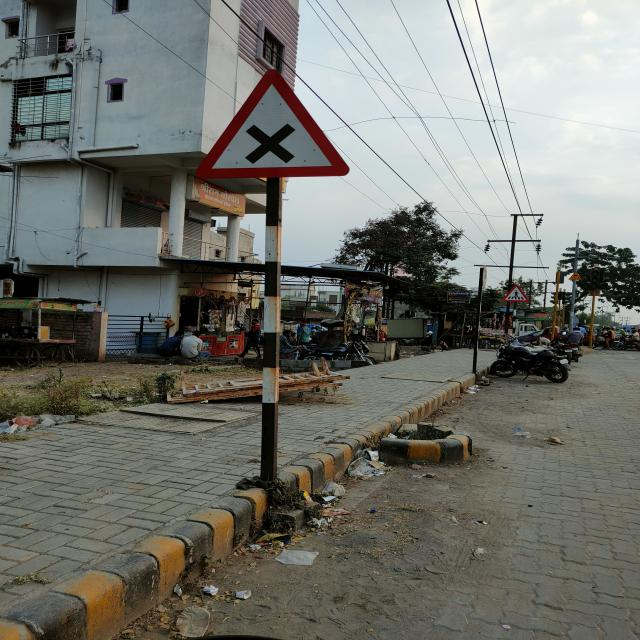CROSS_ROAD: (195, 68, 349, 180)
